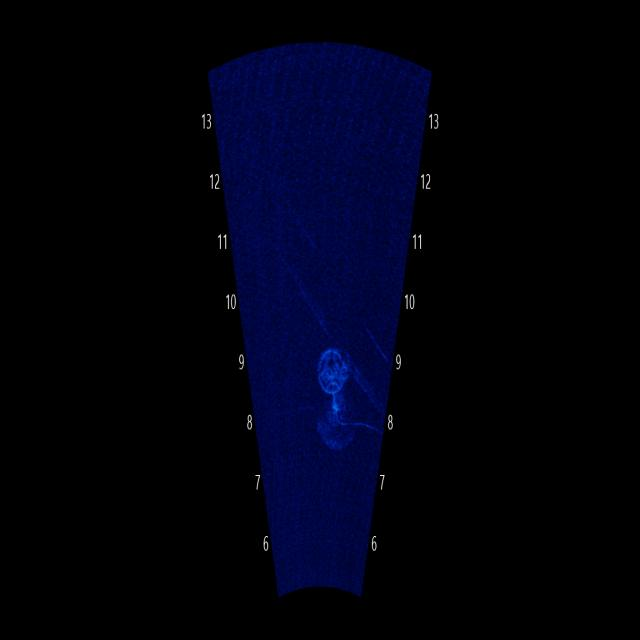circle: (309, 331, 362, 412)
